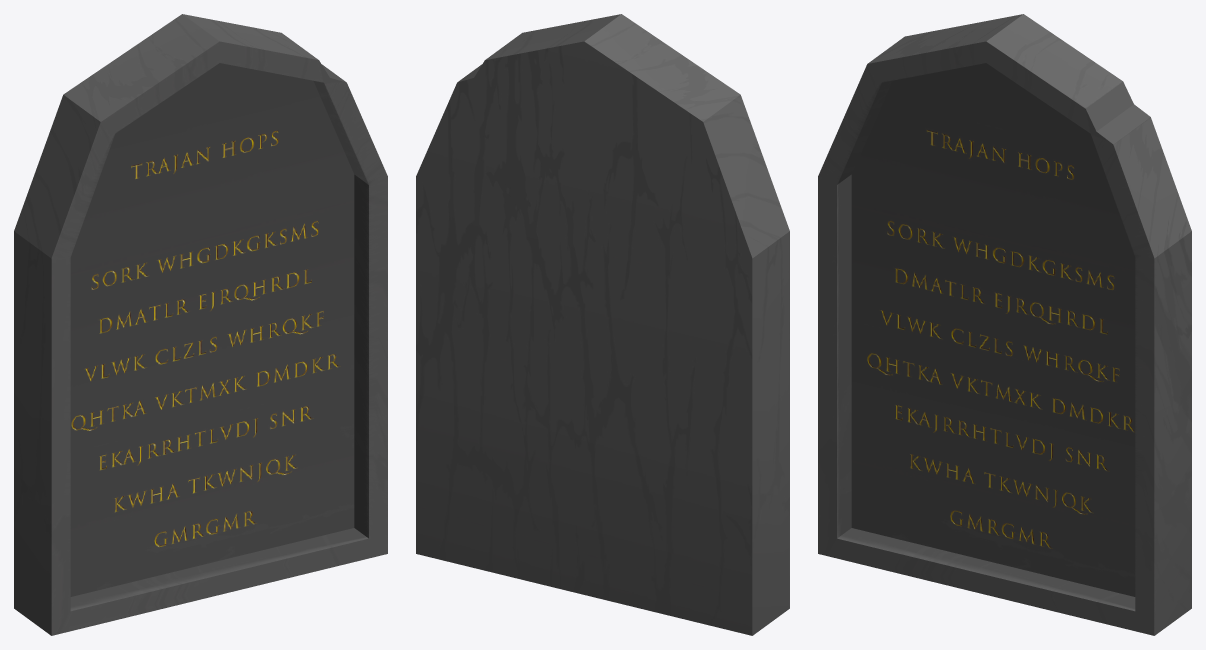
File: tombstone.fbx
The picture shows the model from 3 angles, left to right: view 1: azimuth 30°, elevation 25°; view 2: azimuth 150°, elevation 25°; view 3: azimuth 330°, elevation 25°; orthographic projection.
Parts seen in each view (by area): view 1: Cylinder003; view 2: Cylinder003; view 3: Cylinder003.
Boxes of the visible parts, <box> form: Cylinder003: <box>14,14,387,635</box>; Cylinder003: <box>416,14,789,635</box>; Cylinder003: <box>818,14,1191,635</box>.
Bounding box in the file's own units: 39.01 × 61.33 × 7.53.
